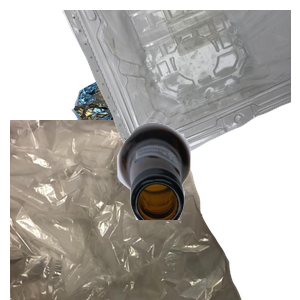glass: (115, 120, 300, 300)
metal: (61, 54, 225, 202)
plastic: (60, 10, 300, 162)
trash: (10, 120, 244, 300)
